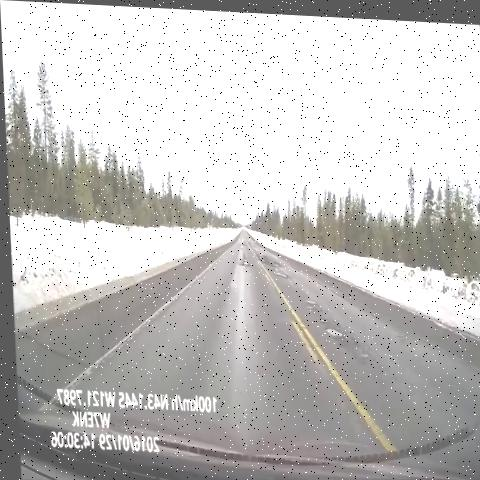pothole: (317, 308, 345, 344), (265, 256, 285, 278), (234, 249, 252, 273), (302, 288, 320, 311), (236, 235, 247, 248)
